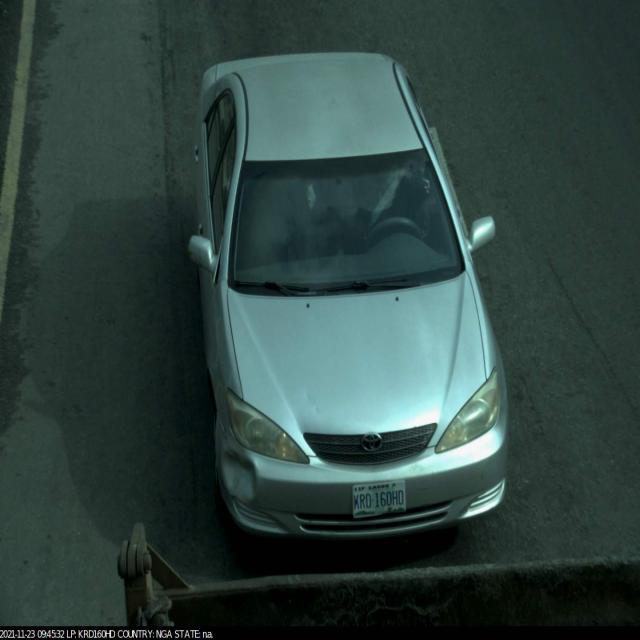windshield: (224, 147, 471, 301)
